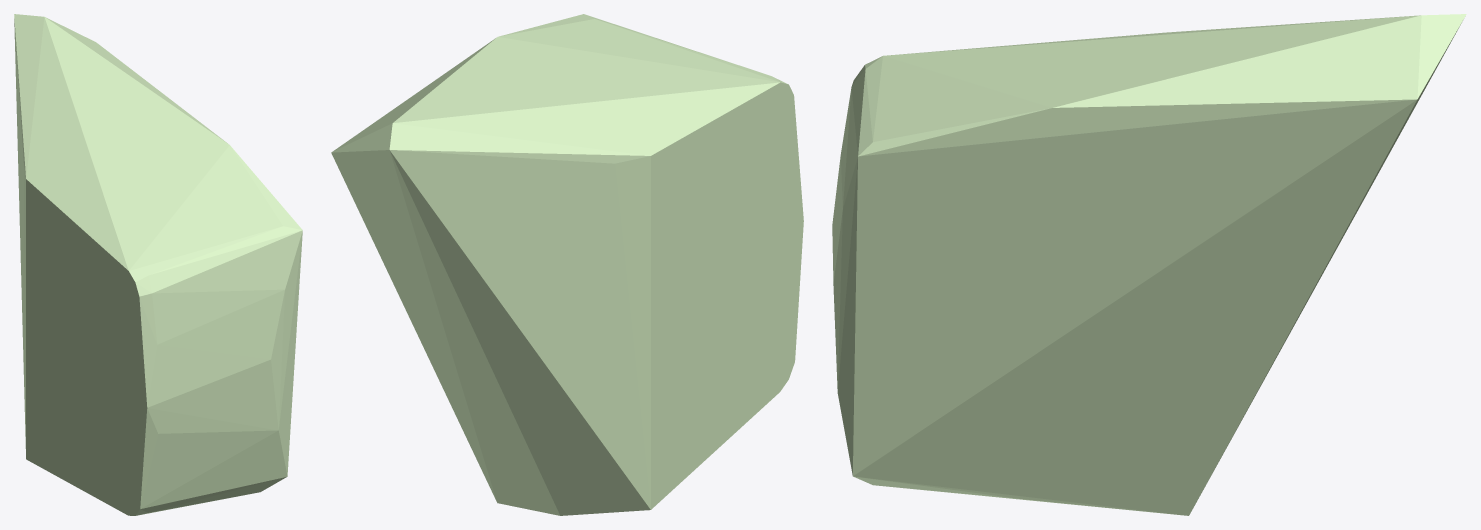
File: kuka_URDF_robot_base_coll_16.dae
3 views of the same model, side by side, from view 1: azimuth 30°, elevation 25°; view 2: azimuth 150°, elevation 25°; view 3: azimuth 270°, elevation 25° (orthographic). The views are drawn at different scales.
Parts seen in each view (by area): view 1: Node_0000020FCC58EAF0; view 2: Node_0000020FCC58EAF0; view 3: Node_0000020FCC58EAF0.
Part boxes in pixels (x1,y1,x2,y2): Node_0000020FCC58EAF0: (14, 14, 302, 515); Node_0000020FCC58EAF0: (331, 14, 803, 515); Node_0000020FCC58EAF0: (832, 14, 1466, 515).
Bounding box in the file's own units: 0.0629 × 0.1322 × 0.1522.
